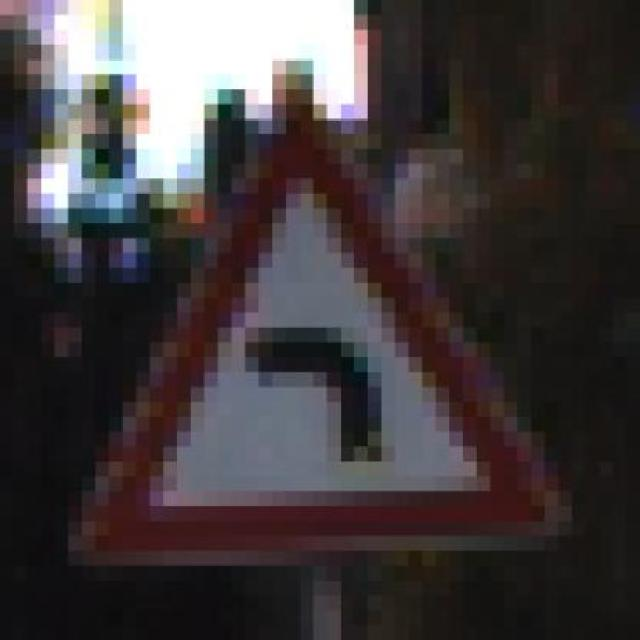Dangerous Left Curve Ahead: (68, 89, 572, 566)
